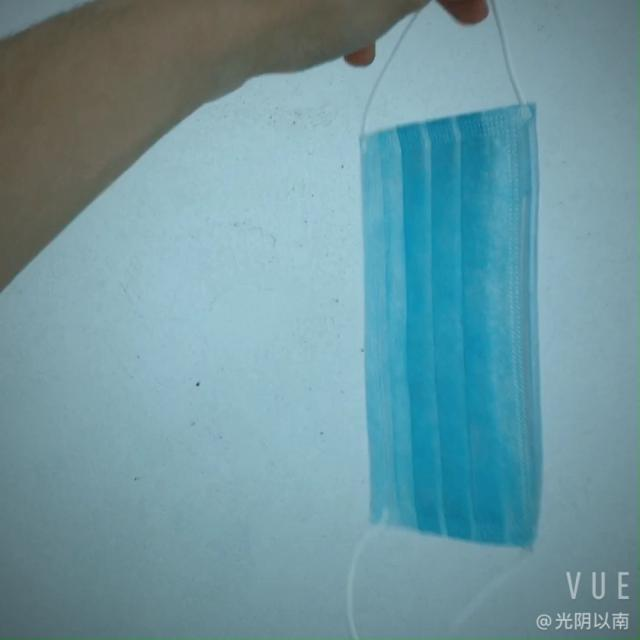non-organic waste: (376, 80, 548, 530)
